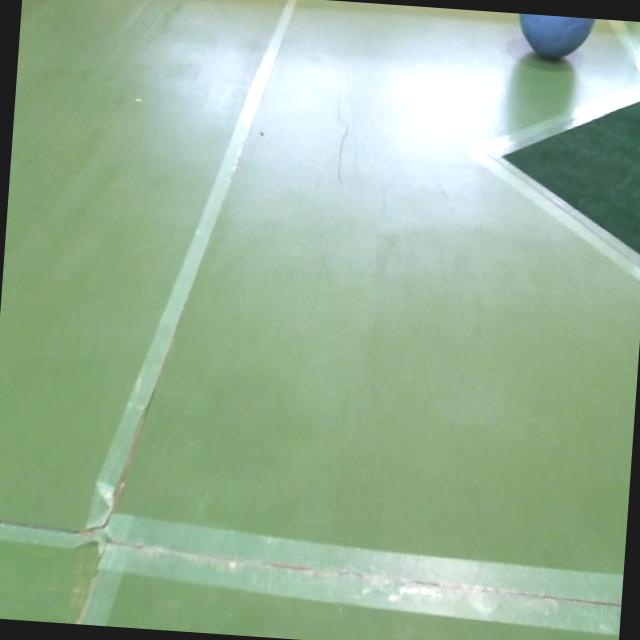blue_ball: (510, 12, 594, 66)
